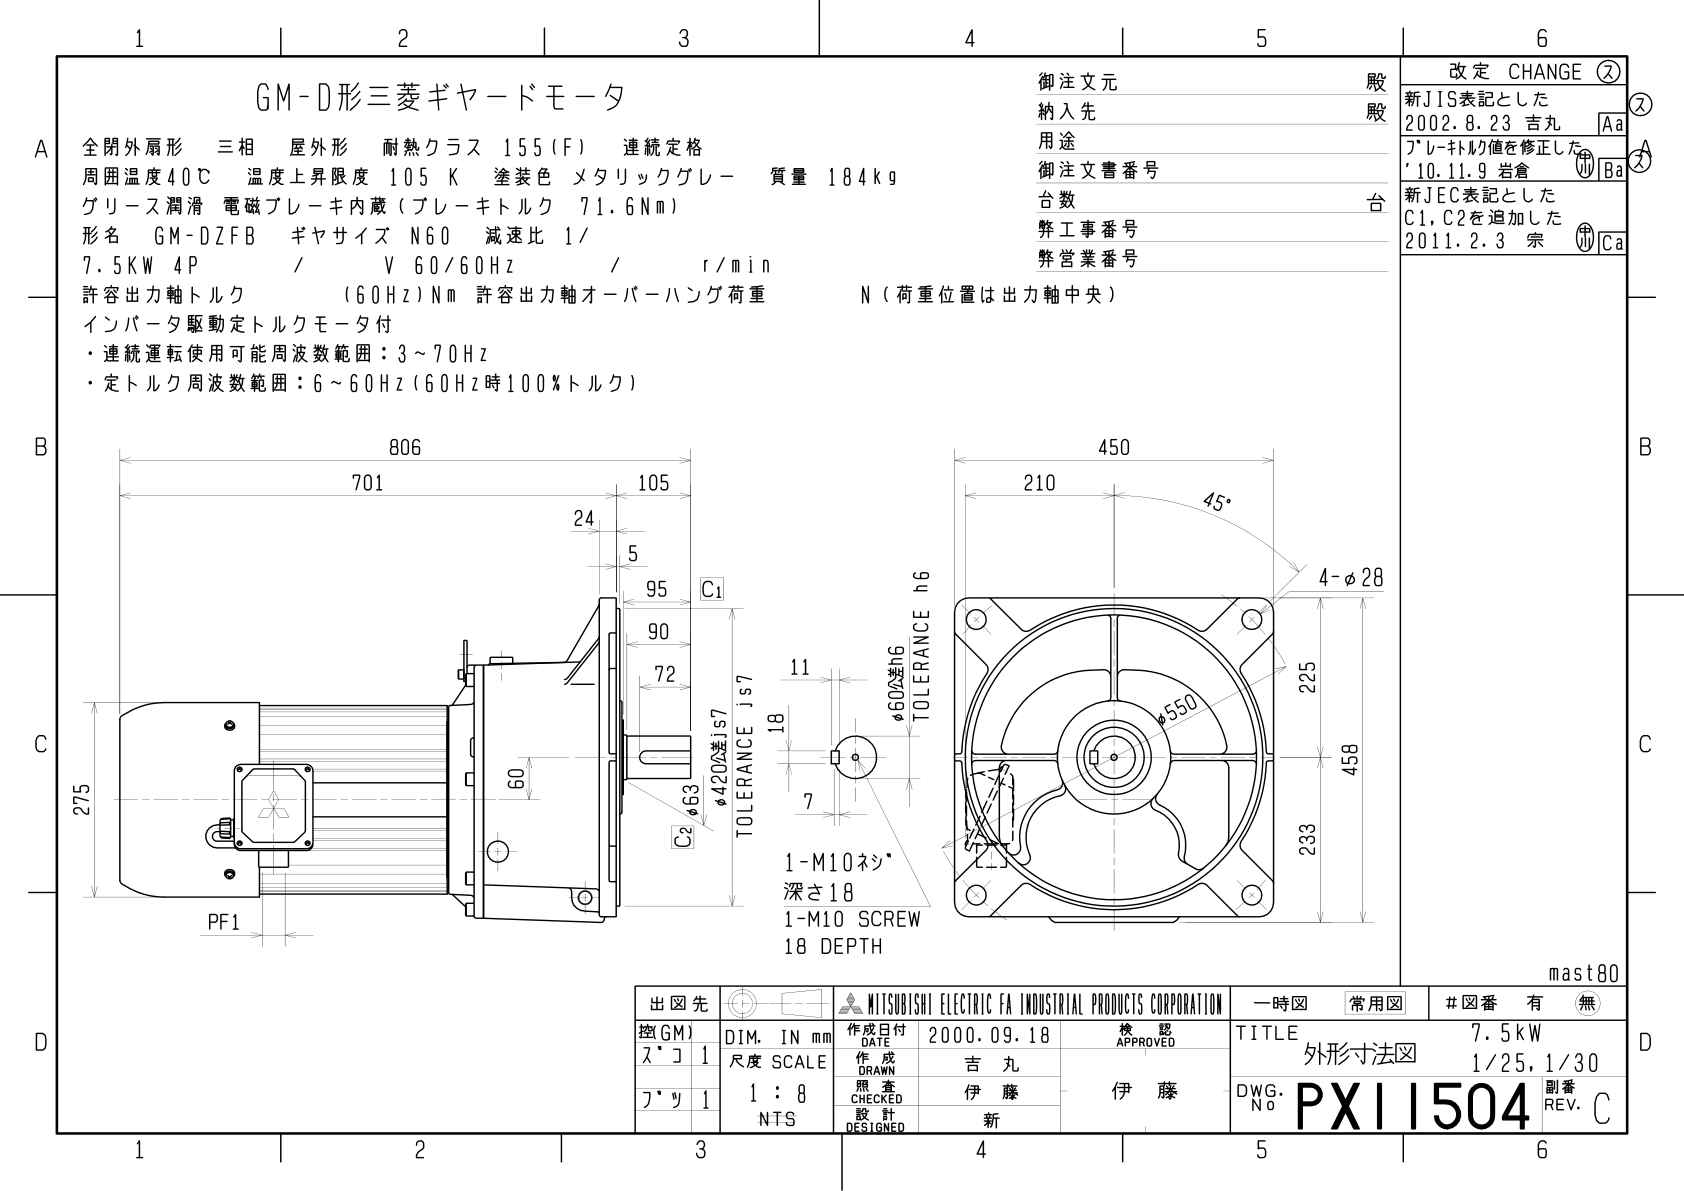GM_D_インバータ屋外_三相_フランジ: (1, 1, 1681, 1176)
